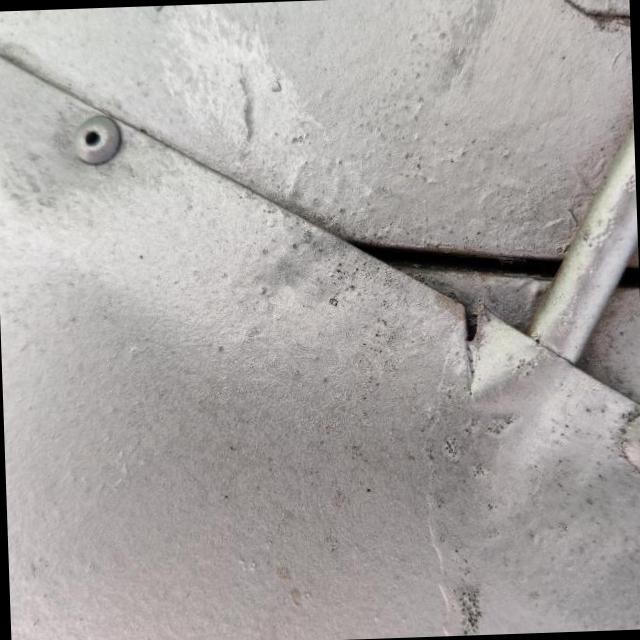Crack: (450, 299, 500, 391)
